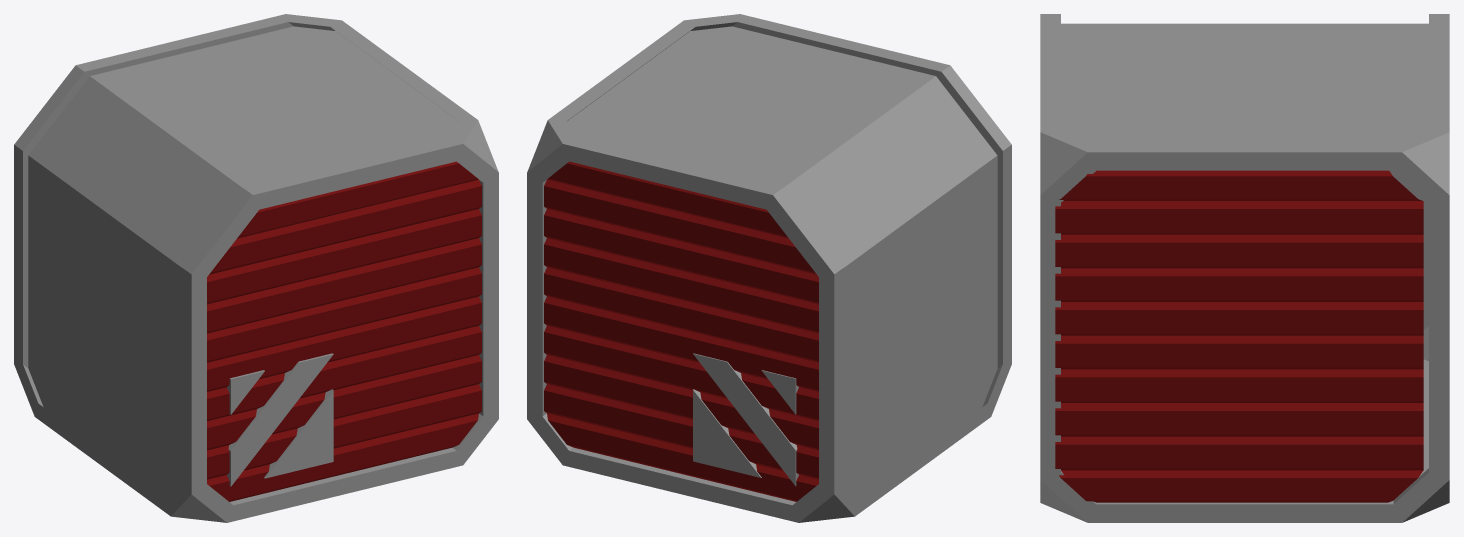
File: Crate1.FBX
3 renders of one model, left to right at view 1: azimuth 30°, elevation 25°; view 2: azimuth 150°, elevation 25°; view 3: azimuth 270°, elevation 25°, orthographic. The views are drawn at different scales.
Visible parts, largest first — view 1: Crate1; view 2: Crate1; view 3: Crate1.
Boxes of the visible parts, x1,y1,x2,y2 form: Crate1: [14, 14, 498, 522]; Crate1: [527, 14, 1011, 522]; Crate1: [1040, 14, 1449, 522].
Bounding box in the file's own units: 101 × 100 × 100.
